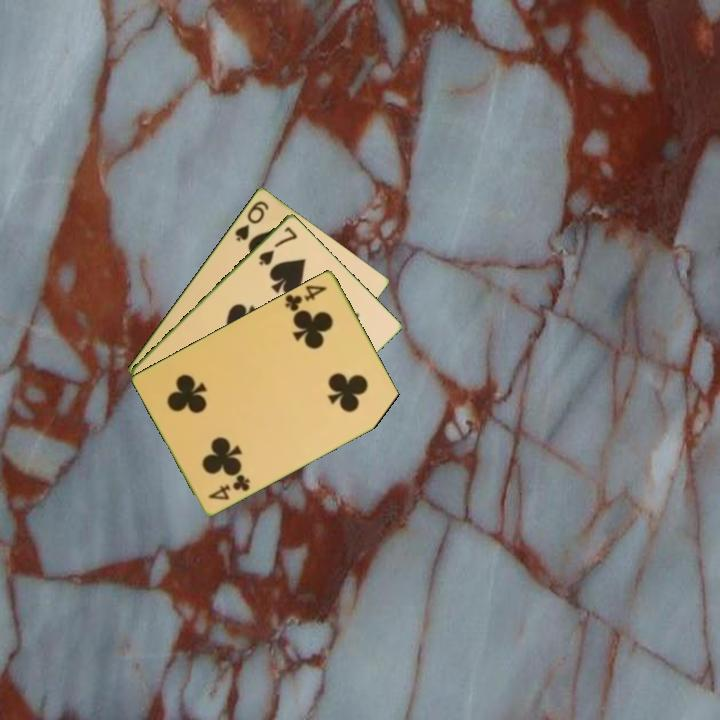4c: (281, 281, 330, 314), (205, 470, 253, 503)
6s: (231, 197, 272, 244)
7s: (255, 222, 300, 268)
